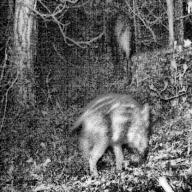boar: (70, 85, 160, 180)
